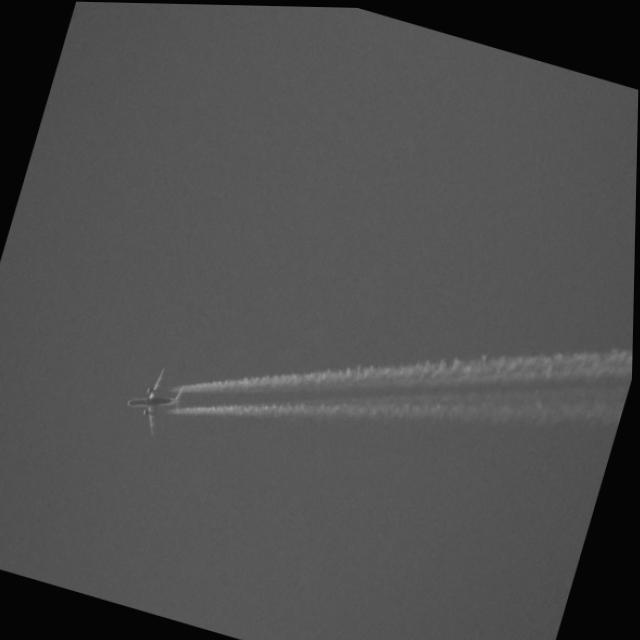aeroplane: (116, 351, 196, 448)
